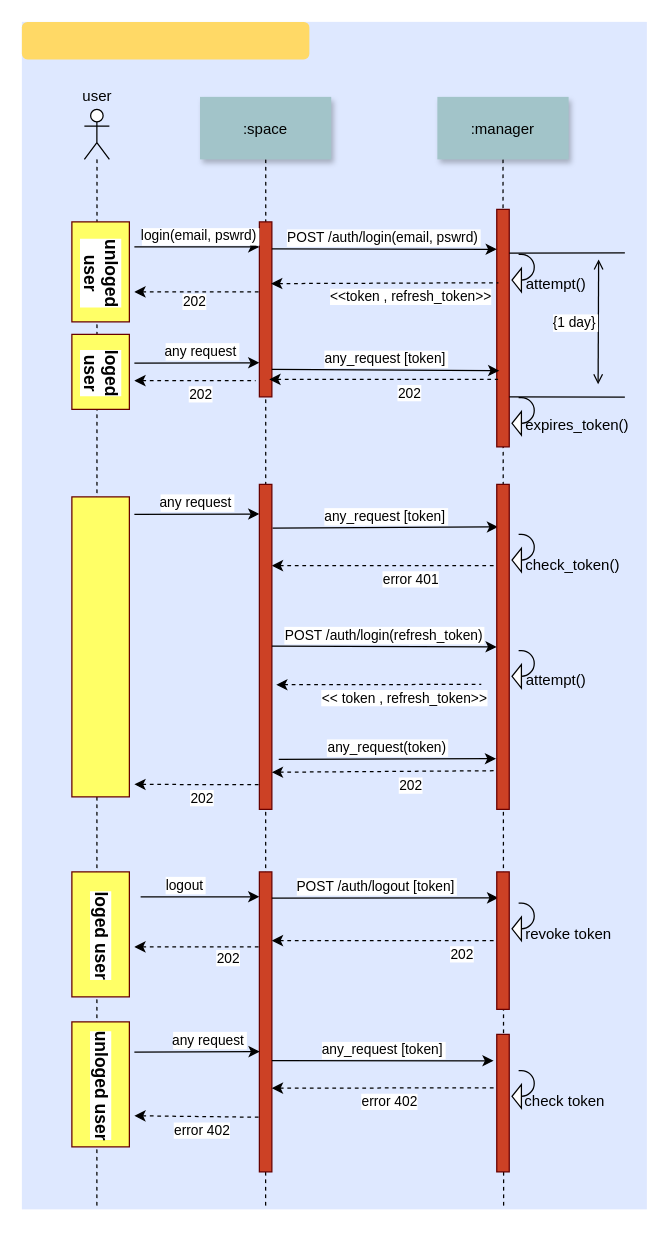
Image size: 668x1233. Some labels were removed from this diagram. Each missing label, with the centre of its shape:
"JWT mechanism with login & logout" belongs at point 165,40.
"loged user with expired token" belongs at point 100,646.
